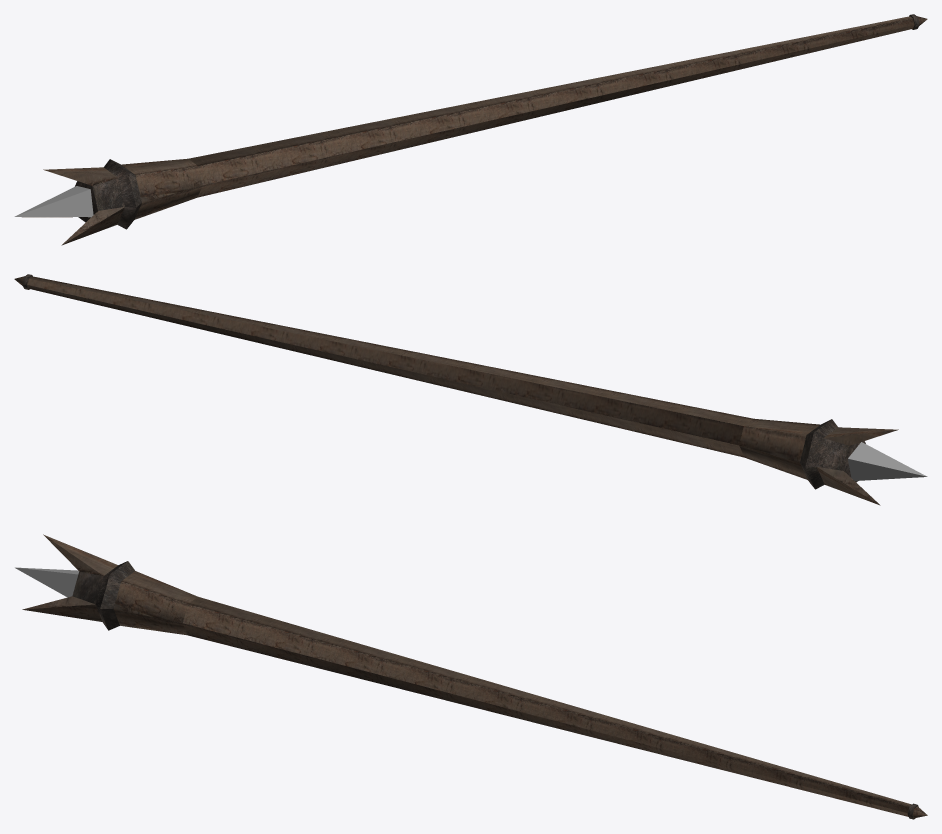
Rendered from Staff.FBX.
The picture shows the model from 3 angles, top to bottom: view 1: azimuth 30°, elevation 25°; view 2: azimuth 150°, elevation 25°; view 3: azimuth 330°, elevation 25°; orthographic projection.
Parts seen in each view (by area): view 1: Staff; view 2: Staff; view 3: Staff.
Boxes of the visible parts, bbox=[...] form: Staff: bbox=[14, 14, 927, 245]; Staff: bbox=[14, 274, 927, 505]; Staff: bbox=[15, 534, 927, 819].
Bounding box in the file's own units: 197 × 14.77 × 14.64.
